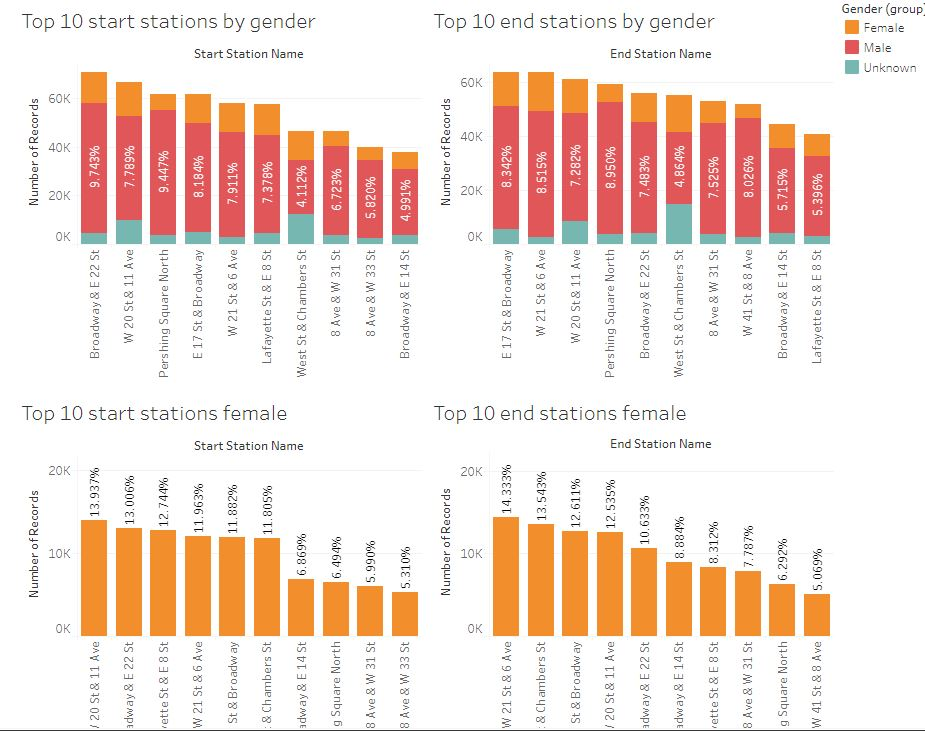

The page's visual inventory and layout, read from the dashboard file:
{"tool":"tableau","page":{"name":"Bike stations by gender","canvas":[1000,800],"ordinal":1},"visuals":[{"type":"worksheet","title":"Top 10 start stations by gender","mark":"Automatic","rows":["Number of Records"],"cols":["start station name"],"box":[8,8,412,392]},{"type":"worksheet","title":"Top 10 end stations by gender","mark":"Automatic","rows":["Number of Records"],"cols":["end station name"],"box":[420,8,412,392]},{"type":"legend","title":"Top 10 start stations by gender","param":"[federated.1ai8v7f0rhtwrv1g6mvor12yl9bw].[Gender (group)]","box":[832,8,160,86]},{"type":"worksheet","title":"Top 10 start stations female","mark":"Automatic","rows":["Number of Records"],"cols":["start station name"],"box":[8,400,412,392]},{"type":"worksheet","title":"Top 10 end stations female","mark":"Automatic","rows":["Number of Records"],"cols":["end station name"],"box":[420,400,412,392]}]}

Visuals, with their boxes in screenshot pixels (x1, y1, x2, y2), scaled from the page's 1000x800 canvas onto the 925x731 screenshot:
"Top 10 start stations by gender" worksheet: <bbox>7, 7, 388, 366</bbox>
"Top 10 end stations by gender" worksheet: <bbox>388, 7, 770, 366</bbox>
"Top 10 start stations by gender" legend: <bbox>770, 7, 918, 86</bbox>
"Top 10 start stations female" worksheet: <bbox>7, 366, 388, 724</bbox>
"Top 10 end stations female" worksheet: <bbox>388, 366, 770, 724</bbox>
